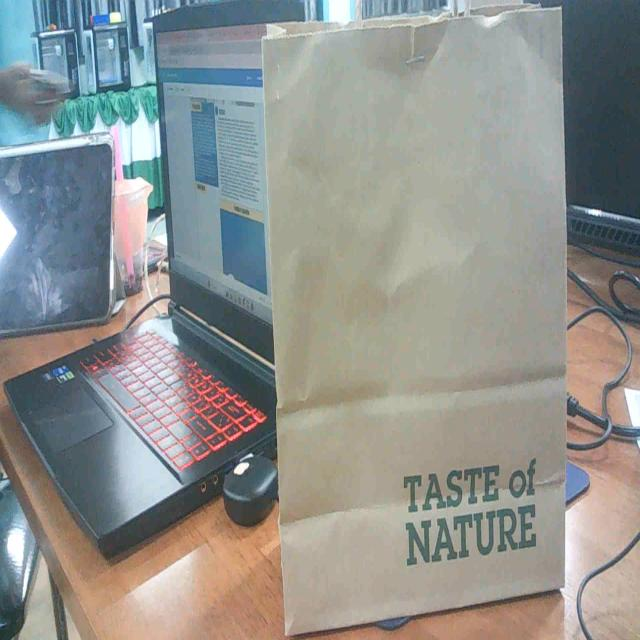bag: (253, 2, 583, 618)
